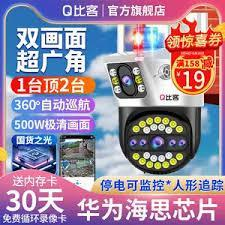maru: (112, 102, 198, 176)
